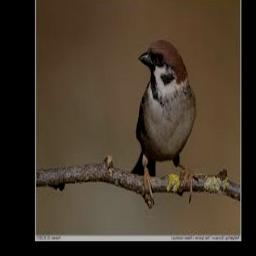Sparrow: (131, 39, 196, 204)
